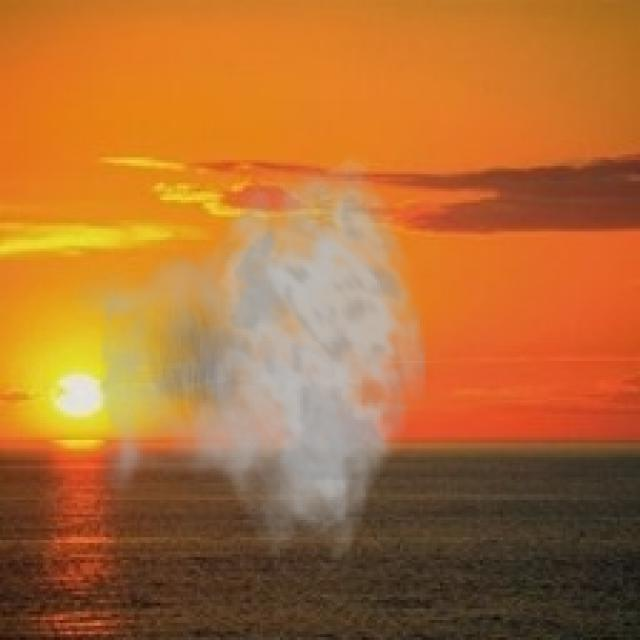Smoke: (66, 154, 428, 569)
